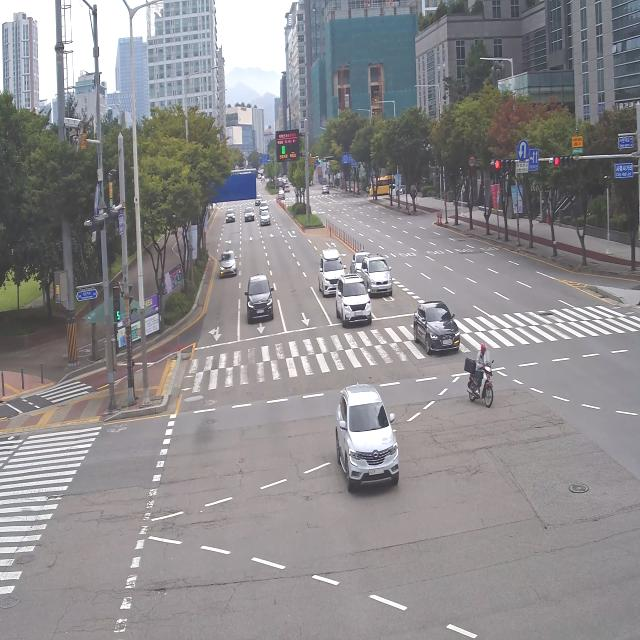Car: (322, 372, 411, 503)
Motorcycle: (458, 337, 504, 416)
